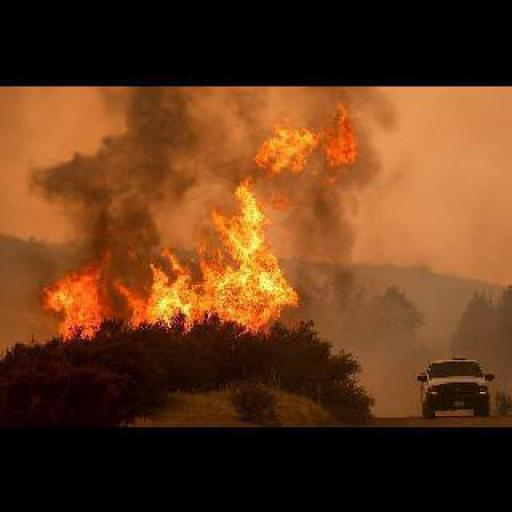smoke: (38, 92, 356, 334)
